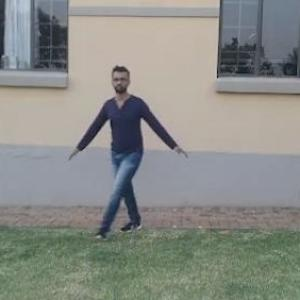land: (60, 63, 190, 234)
